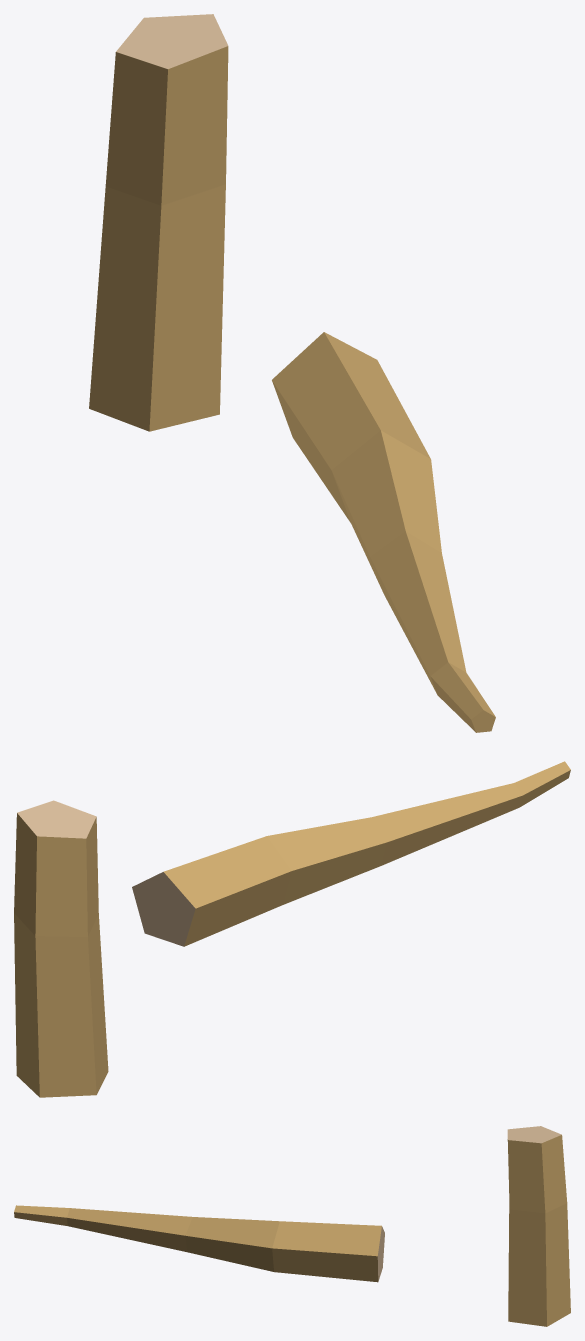
The model's file is Simple_Tree_NoLeaves_crk_m_01_LOD.fbx.
The picture shows the model from 3 angles, top to bottom: view 1: azimuth 30°, elevation 25°; view 2: azimuth 150°, elevation 25°; view 3: azimuth 270°, elevation 25°; orthographic projection. The views are drawn at different scales.
Parts seen in each view (by area): view 1: Simple_Tree_NoLeaves_crk_m_01_LOD0; view 2: Simple_Tree_NoLeaves_crk_m_01_LOD0; view 3: Simple_Tree_NoLeaves_crk_m_01_LOD0.
Part boxes in pixels (x1=…): Simple_Tree_NoLeaves_crk_m_01_LOD0: x1=89, y1=14, x2=495, y2=732; Simple_Tree_NoLeaves_crk_m_01_LOD0: x1=14, y1=761, x2=570, y2=1097; Simple_Tree_NoLeaves_crk_m_01_LOD0: x1=14, y1=1126, x2=570, y2=1326.
Size of what is drawn, in the model's own units: 133 by 177 by 483.
